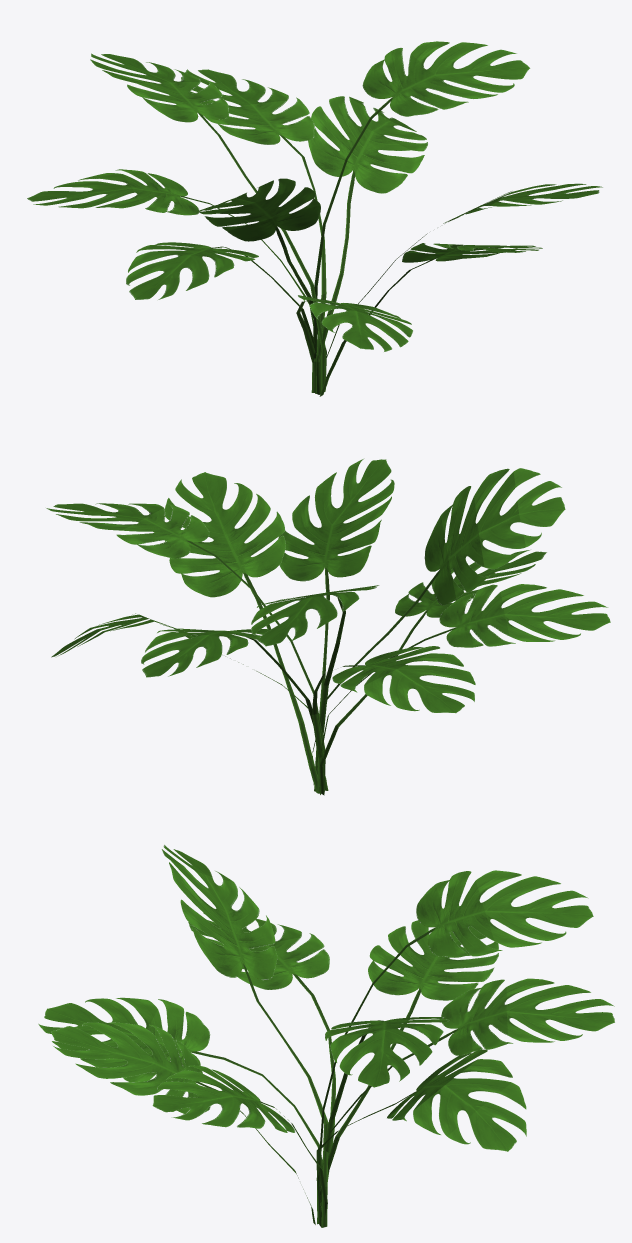
The model's file is MonsteraPlant2.fbx.
3 views of the same model, one above another, from view 1: azimuth 30°, elevation 25°; view 2: azimuth 150°, elevation 25°; view 3: azimuth 270°, elevation 25° (orthographic). The views are drawn at different scales.
Visible parts, largest first — view 1: MonsteraPlant1; view 2: MonsteraPlant1; view 3: MonsteraPlant1.
Boxes of the visible parts, x1,y1,x2,y2 form: MonsteraPlant1: (27, 41, 602, 396); MonsteraPlant1: (46, 458, 610, 795); MonsteraPlant1: (38, 844, 614, 1227).
Size of the model in its own units: 198 by 119 by 195.
